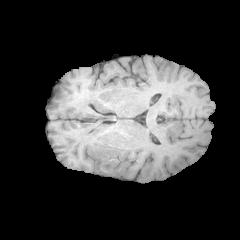glioma: (89, 141, 132, 177)
